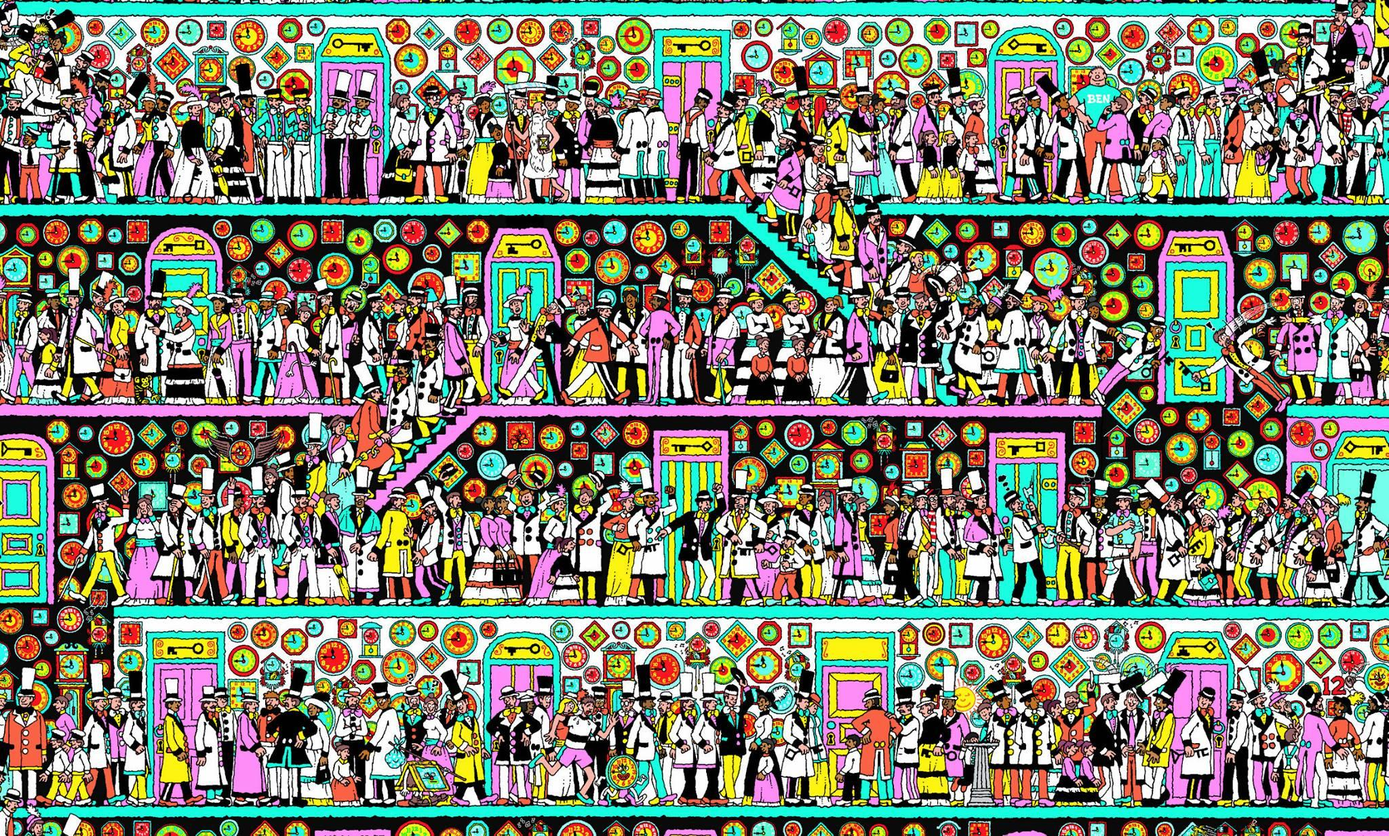waldo: (924, 487, 941, 544), (1342, 89, 1355, 135)
